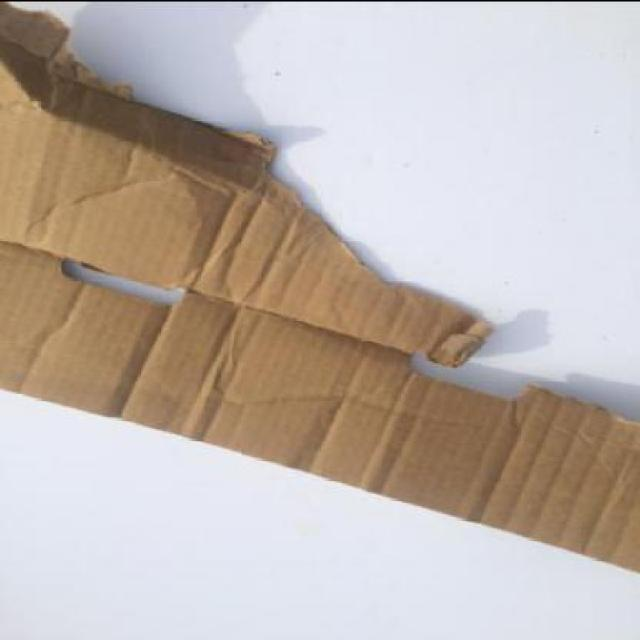CARDBOARD: (0, 1, 638, 575), (1, 1, 493, 368)
